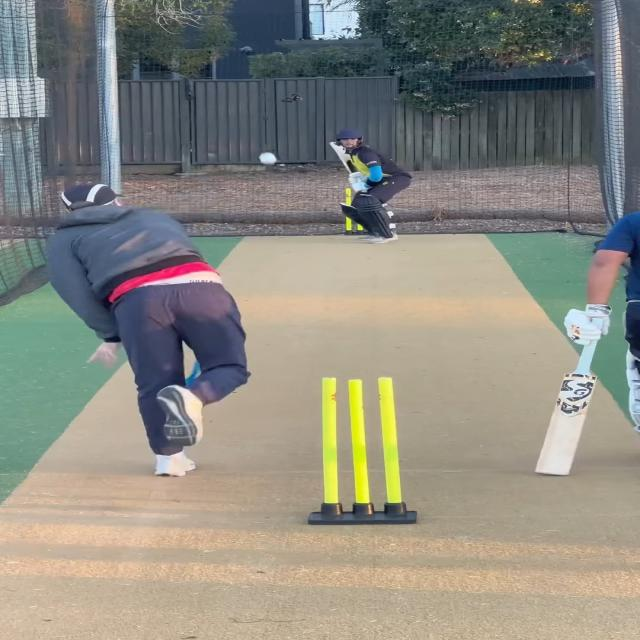ball: (255, 150, 281, 166)
stump: (308, 375, 413, 526)
